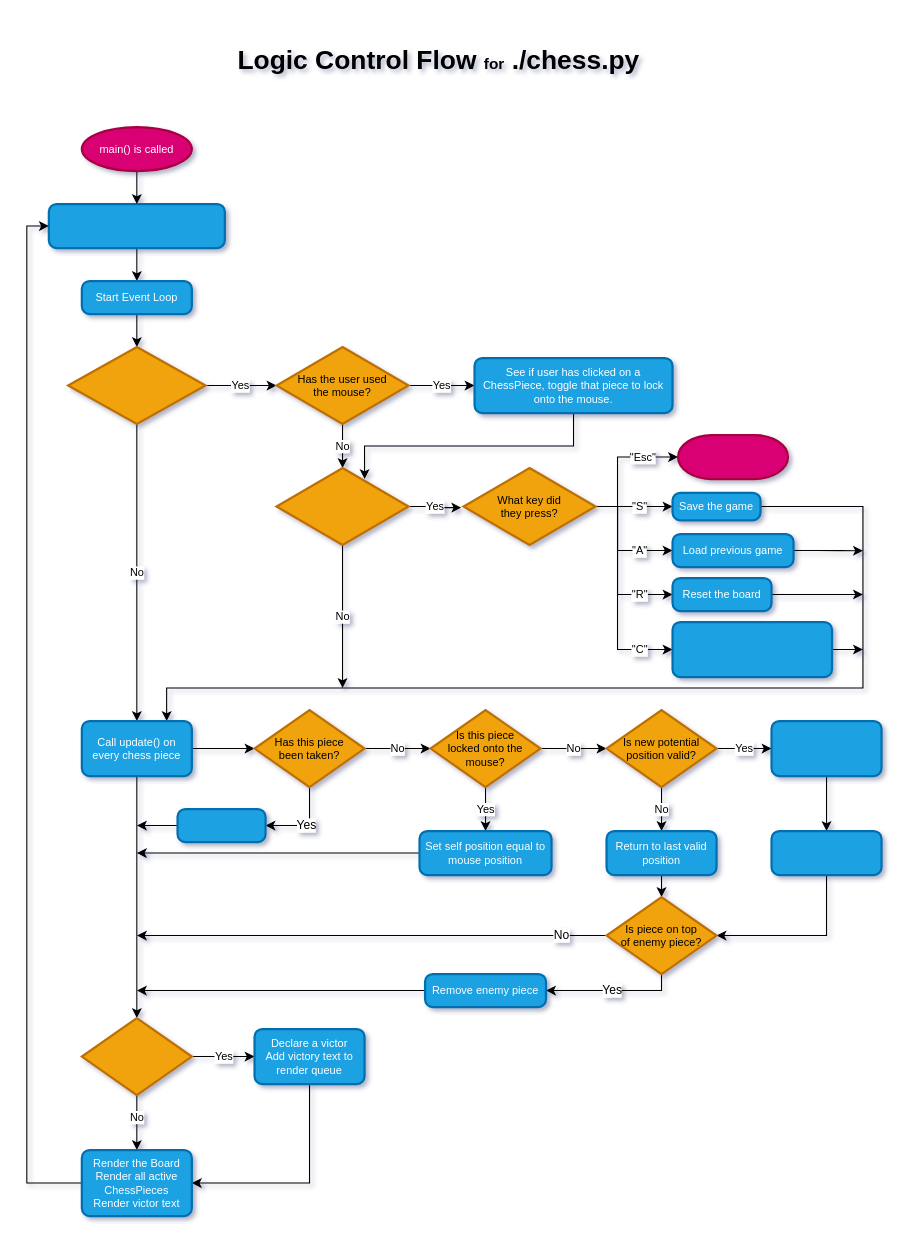
The diagram is 909 pixels wide and 1243 high, and some of its shapes have lost their labels. The shapes that lost their labels are listed below. From the top down, each one's centre as x and y in pixels, then its label:
point (136, 225): Create GUI window Create ChessBoard object
point (136, 385): Has the user given an input?
point (732, 456): Quit the game
point (342, 506): Has the user used the keyboard?
point (752, 649): Move a random piece for a player to any valid position on the board
point (826, 748): Hand over turn to next player Rectify position
point (221, 825): Remove self from board
point (826, 852): Promote piece to Queen if needed
point (136, 1056): Has a king been taken?
